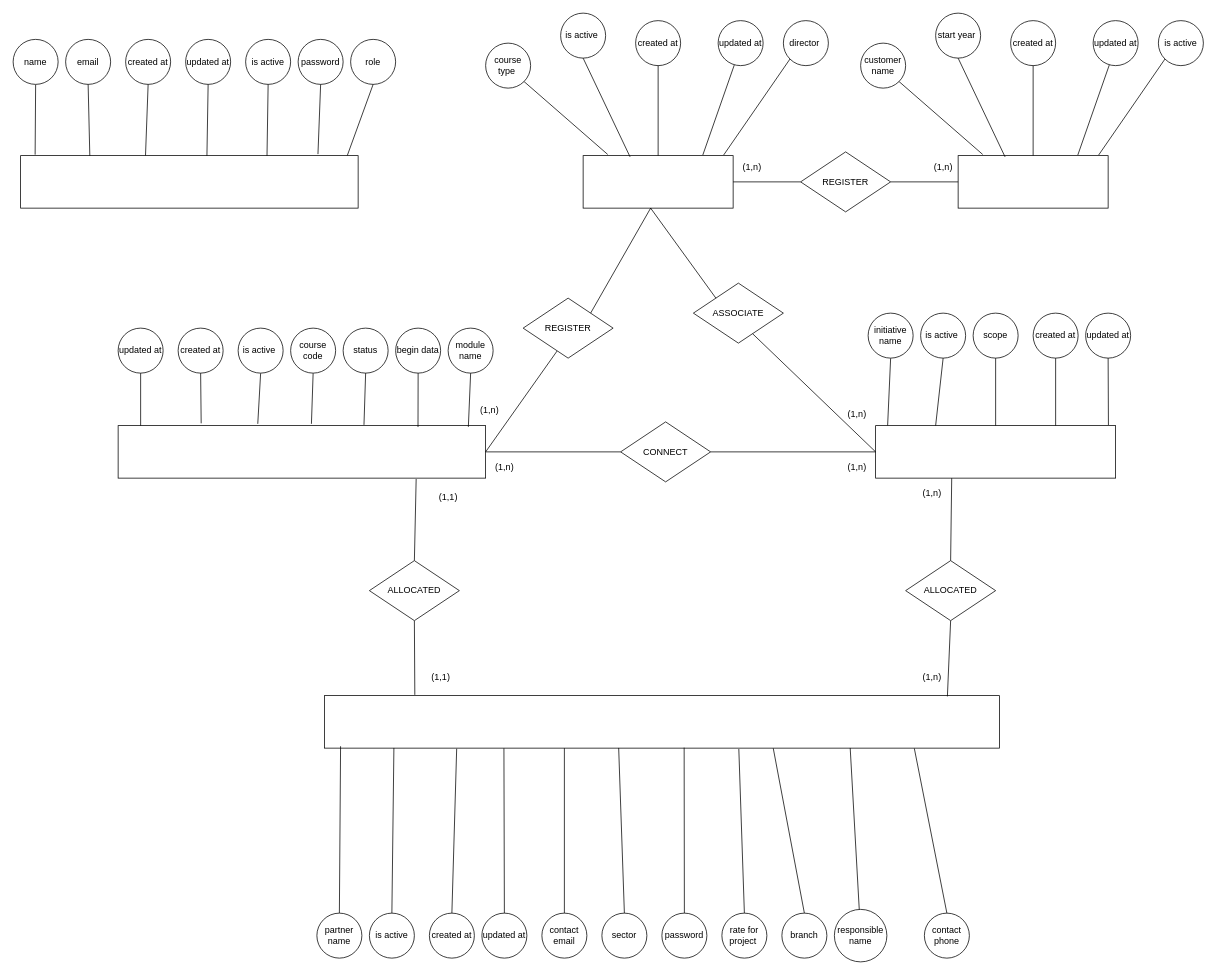
The diagram is 1217 pixels wide and 975 high, and some of its shapes have lost their labels. The centre of each missing label's shape, as x and y in pixels:
"ANALYST" belongs at point (189, 181).
"CLASS" belongs at point (1032, 181).
"COURSE" belongs at point (657, 181).
"INITIATIVE" belongs at point (995, 451).
"MODULE" belongs at point (301, 451).
"PARTNER" belongs at point (661, 721).
